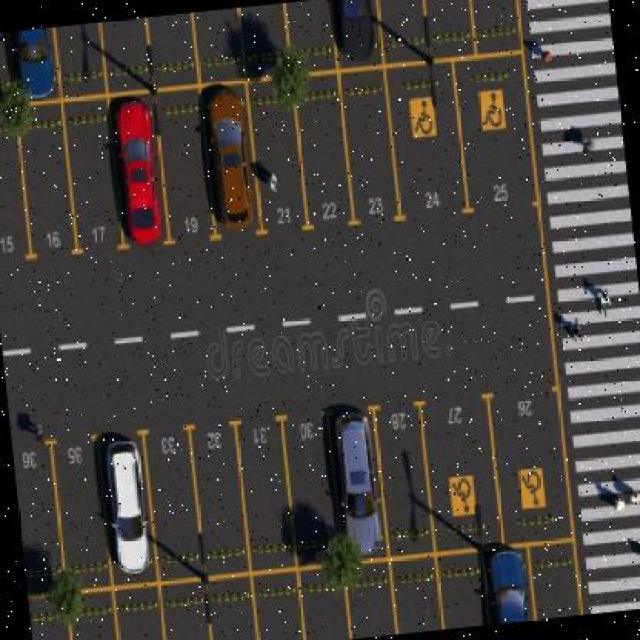Car: (93, 427, 158, 580), (203, 87, 264, 247), (112, 86, 170, 252), (332, 400, 390, 566), (9, 27, 60, 109), (486, 543, 535, 626), (335, 1, 384, 73)
Empty: (457, 52, 537, 224), (390, 70, 469, 230), (493, 383, 572, 541), (430, 401, 503, 546), (141, 427, 209, 570), (338, 64, 398, 223), (155, 81, 215, 239), (190, 420, 252, 566), (64, 98, 123, 247), (280, 410, 343, 549), (250, 93, 310, 235), (233, 413, 295, 549), (18, 104, 75, 247), (381, 403, 439, 540), (296, 89, 355, 221), (57, 439, 108, 578), (13, 446, 64, 581), (238, 4, 293, 83), (300, 564, 357, 640), (57, 23, 108, 103), (1, 132, 32, 263), (198, 9, 247, 89), (152, 13, 203, 89), (394, 556, 443, 635), (103, 18, 154, 93), (347, 567, 398, 640), (284, 1, 335, 72), (532, 544, 579, 620), (253, 576, 304, 640), (424, 1, 476, 63), (159, 585, 214, 640), (210, 581, 261, 640), (473, 1, 524, 59), (441, 563, 484, 630), (70, 588, 119, 640), (382, 1, 424, 59), (120, 596, 169, 640), (31, 593, 74, 640)
